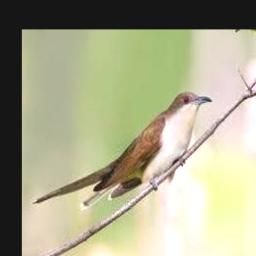Cuckoo: (32, 92, 212, 210)
